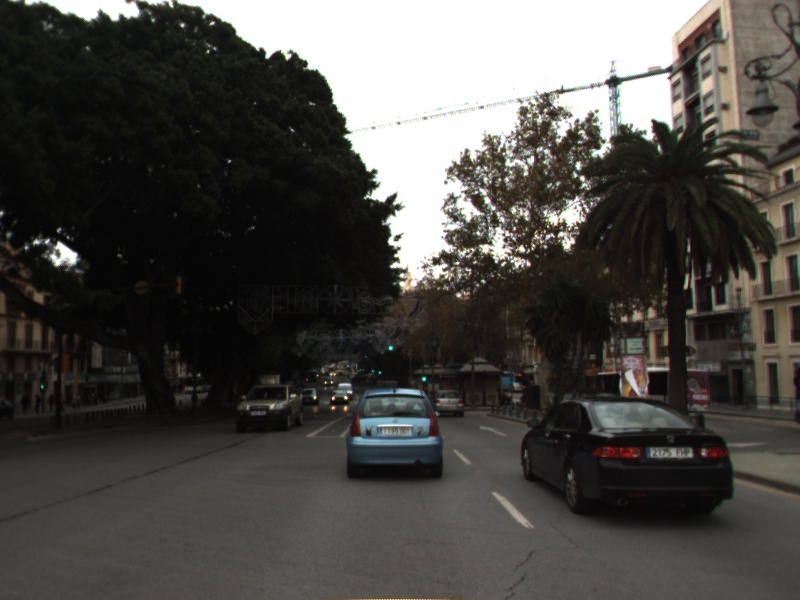STRAIGHT: (477, 423, 509, 438)
